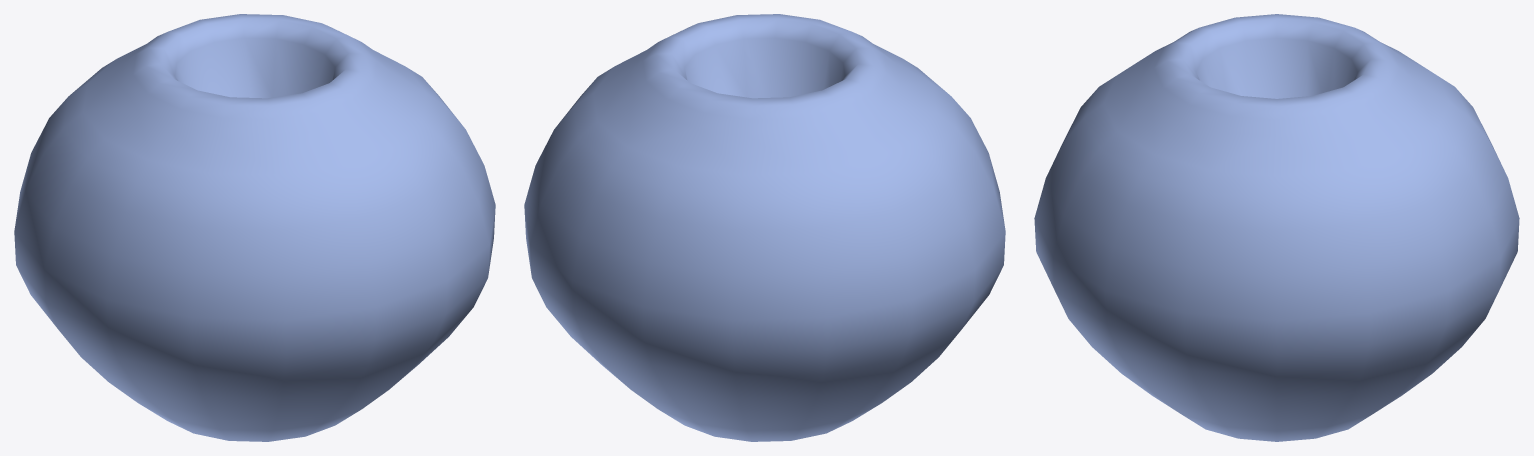
The model's file is Vase_02.fbx.
3 views of the same model, side by side, from view 1: azimuth 30°, elevation 25°; view 2: azimuth 150°, elevation 25°; view 3: azimuth 270°, elevation 25° (orthographic).
Parts seen in each view (by area): view 1: Vase_02; view 2: Vase_02; view 3: Vase_02.
Part boxes in pixels (<box>): Vase_02: <box>14,14,495,441</box>; Vase_02: <box>524,14,1005,441</box>; Vase_02: <box>1034,14,1519,441</box>.
Bounding box in the file's own units: 17.12 × 13.24 × 17.12.
